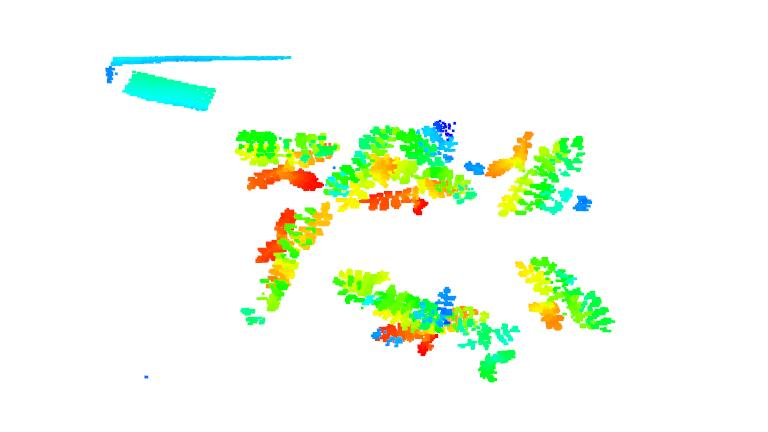chickpea: (243, 200, 327, 322), (485, 127, 598, 217), (334, 263, 434, 359), (331, 128, 429, 220), (427, 293, 517, 385), (517, 254, 613, 334), (231, 125, 338, 194), (405, 119, 479, 205)
